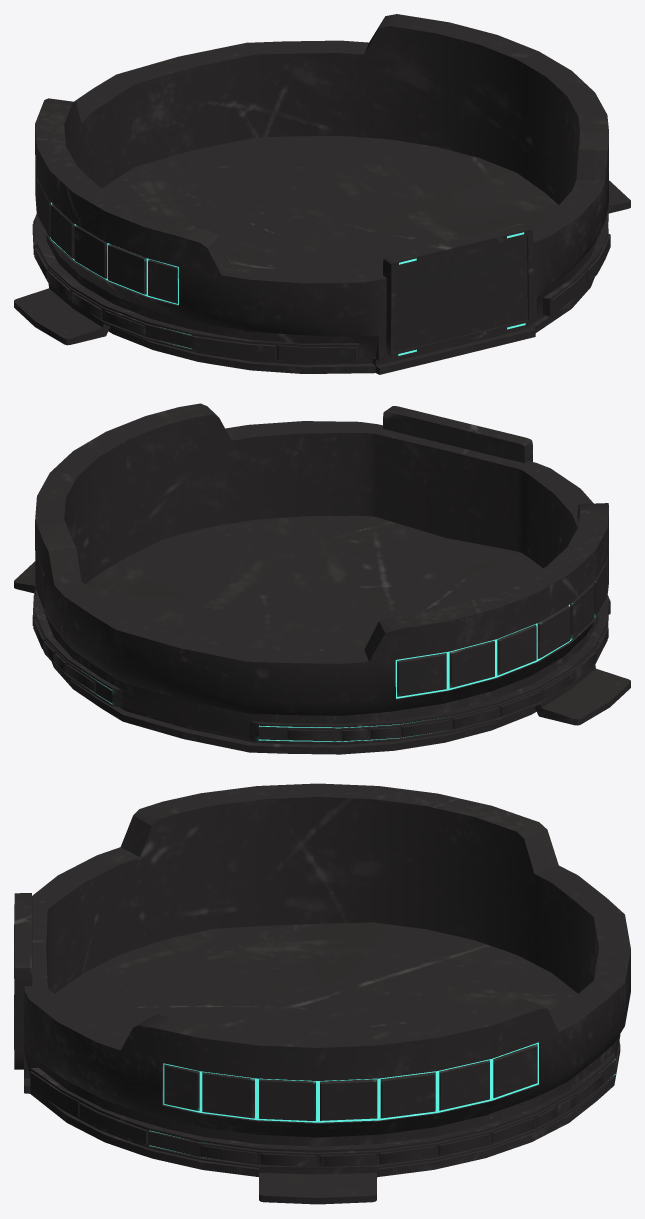
3 views of the same model, one above another, from view 1: azimuth 30°, elevation 25°; view 2: azimuth 150°, elevation 25°; view 3: azimuth 270°, elevation 25° (orthographic). The views are drawn at different scales.
Visible parts, largest first — view 1: Base; view 2: Base; view 3: Base.
Part boxes in pixels (bbox=[...]): Base: bbox=[14, 14, 630, 374]; Base: bbox=[14, 403, 630, 754]; Base: bbox=[14, 783, 630, 1204].
Size of the model in its own units: 363 by 75.61 by 310.
